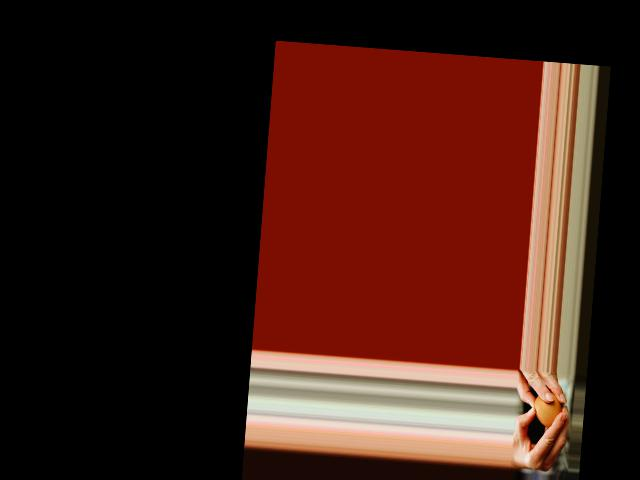egg: (532, 391, 564, 427)
